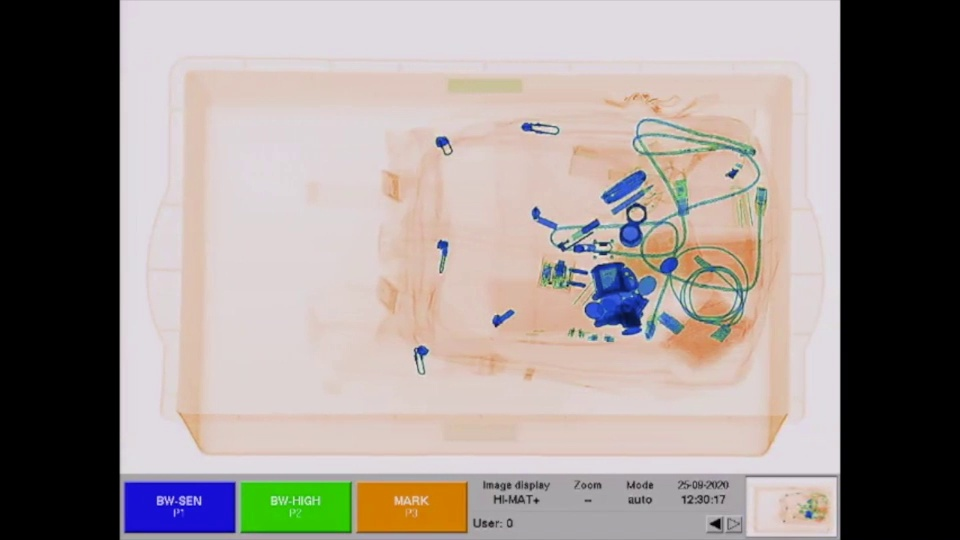tray_img: (140, 47, 828, 460)
